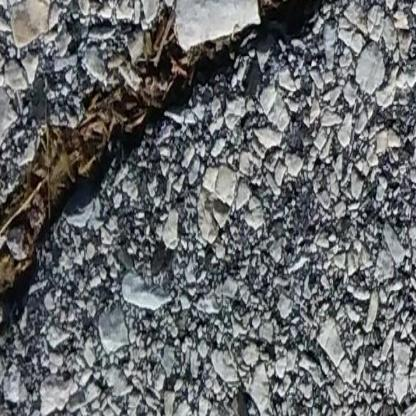Cracks: (0, 0, 344, 409)
